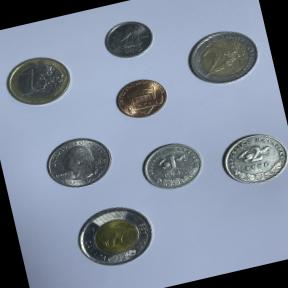coin: (65, 195, 164, 276), (178, 19, 268, 93), (35, 128, 120, 197), (0, 46, 80, 115), (214, 123, 288, 193), (104, 68, 177, 128), (97, 12, 161, 68)
